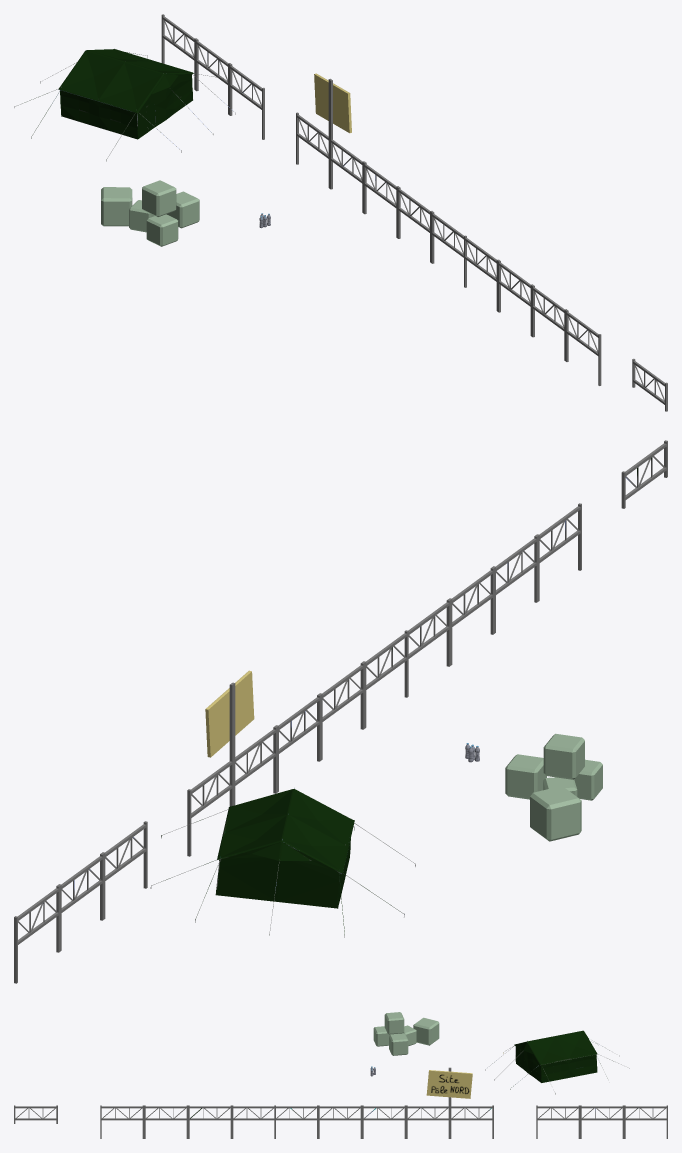
The model's file is pole_nord_props.fbx.
3 renders of one model, top to bottom at view 1: azimuth 30°, elevation 25°; view 2: azimuth 150°, elevation 25°; view 3: azimuth 270°, elevation 25°, orthographic. The views are drawn at different scales.
Parts seen in each view (by area): view 1: pole_nord; view 2: pole_nord; view 3: pole_nord.
Boxes of the visible parts, bbox=[...] form: pole_nord: bbox=[14, 14, 667, 411]; pole_nord: bbox=[14, 440, 667, 983]; pole_nord: bbox=[14, 1012, 667, 1138].
Bounding box in the file's own units: 5430 × 2232 × 18752.
